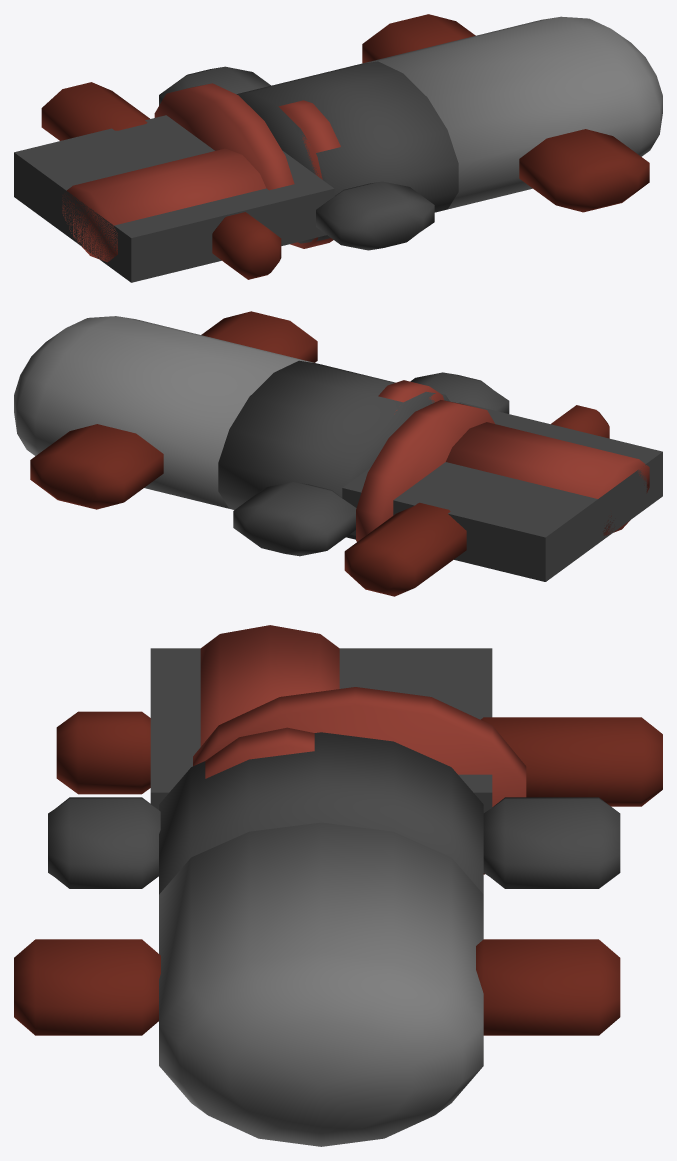
File: newsh5-119.glb
3 views of the same model, one above another, from view 1: azimuth 30°, elevation 25°; view 2: azimuth 150°, elevation 25°; view 3: azimuth 270°, elevation 25° (orthographic). The views are drawn at different scales.
Parts seen in each view (by area): view 1: newsh5-119; view 2: newsh5-119; view 3: newsh5-119.
Boxes of the visible parts, left/top/right/bottom form: newsh5-119: left=14, top=14, right=662, bottom=282; newsh5-119: left=14, top=311, right=662, bottom=596; newsh5-119: left=14, top=625, right=662, bottom=1146.
Size of the model in its own units: 1.87 by 0.44 by 1.27.
